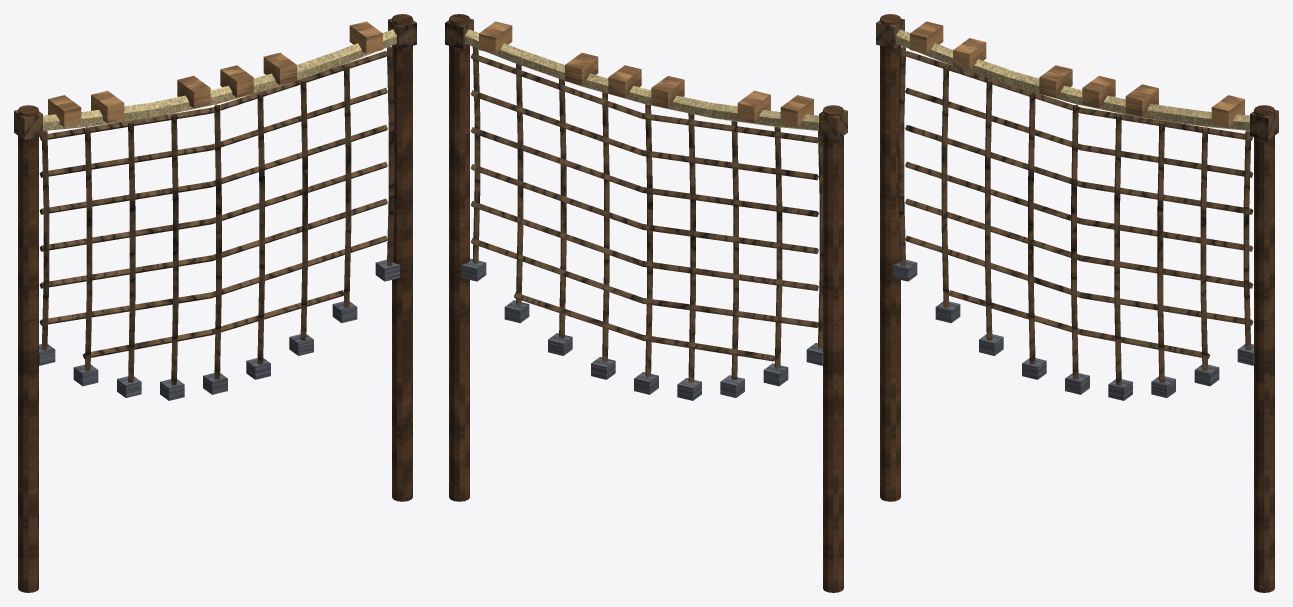
The model's file is fishing_net.fbx.
3 renders of one model, left to right at view 1: azimuth 30°, elevation 25°; view 2: azimuth 150°, elevation 25°; view 3: azimuth 330°, elevation 25°, orthographic.
Parts seen in each view (by area): view 1: fishing_net; view 2: fishing_net; view 3: fishing_net.
Part boxes in pixels (<box>): fishing_net: <box>14,14,416,592</box>; fishing_net: <box>445,14,847,592</box>; fishing_net: <box>876,14,1278,592</box>.
Size of the model in its own units: 150 by 175 by 11.
